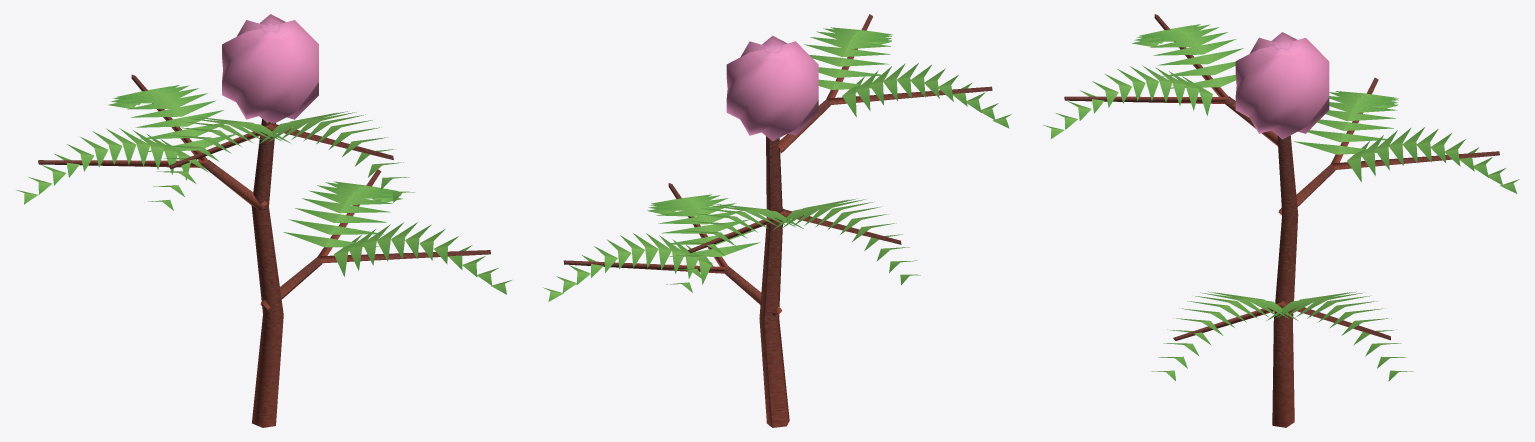
The model's file is turtle-prop-makahiya-spray.glb.
The picture shows the model from 3 angles, left to right: view 1: azimuth 30°, elevation 25°; view 2: azimuth 150°, elevation 25°; view 3: azimuth 270°, elevation 25°; orthographic projection. The views are drawn at different scales.
Parts seen in each view (by area): view 1: makahiya-spray; view 2: makahiya-spray; view 3: makahiya-spray.
Boxes of the visible parts, left/top/right/bottom form: makahiya-spray: left=16, top=14, right=511, bottom=427; makahiya-spray: left=543, top=14, right=1011, bottom=427; makahiya-spray: left=1043, top=14, right=1519, bottom=427.
Size of the model in its own units: 0.0496 by 0.0479 by 0.0544.
Materials: 1 (1 with a texture image).
